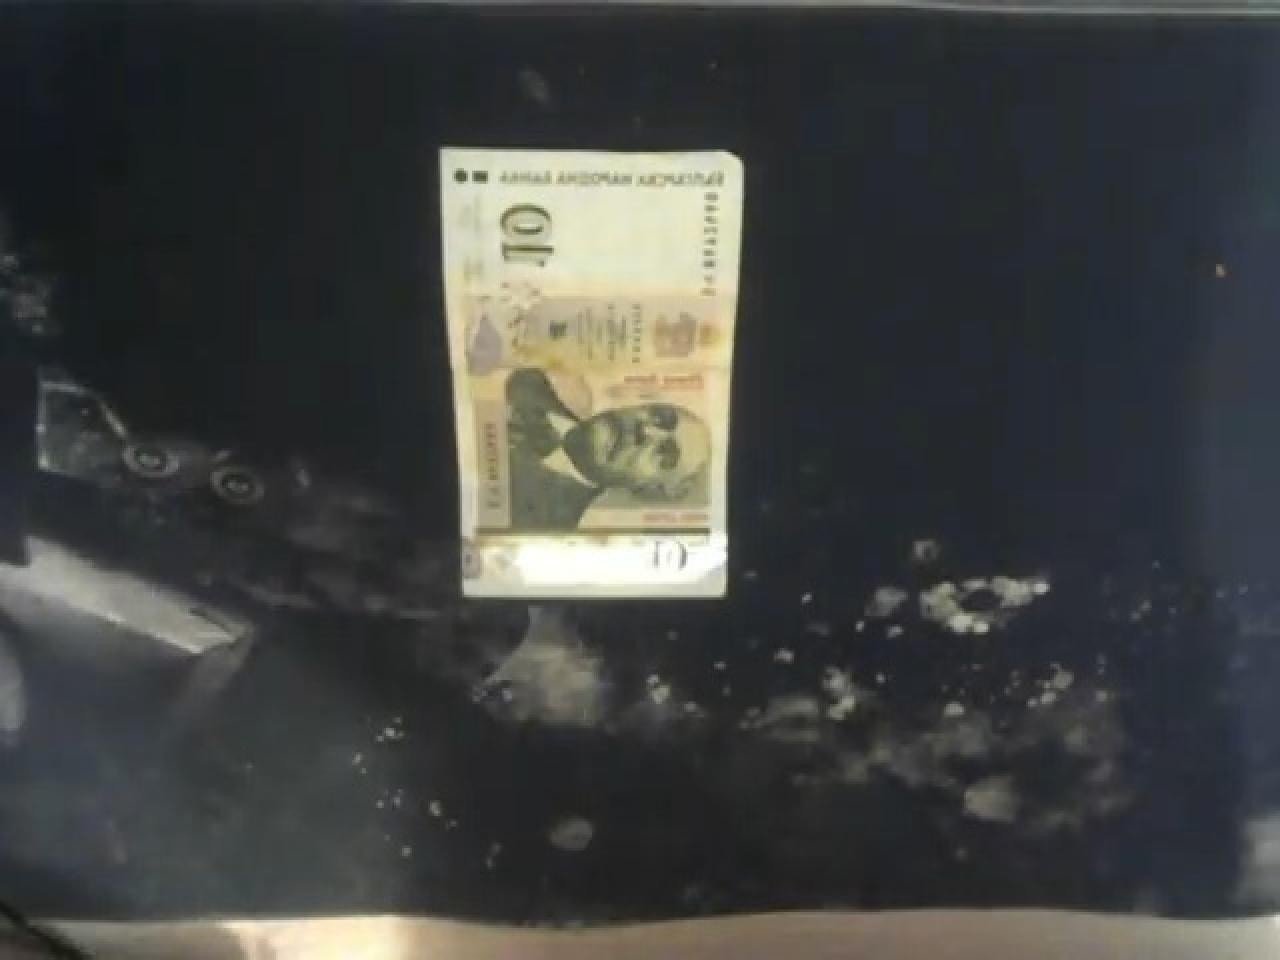10leva: (475, 186, 561, 287)
